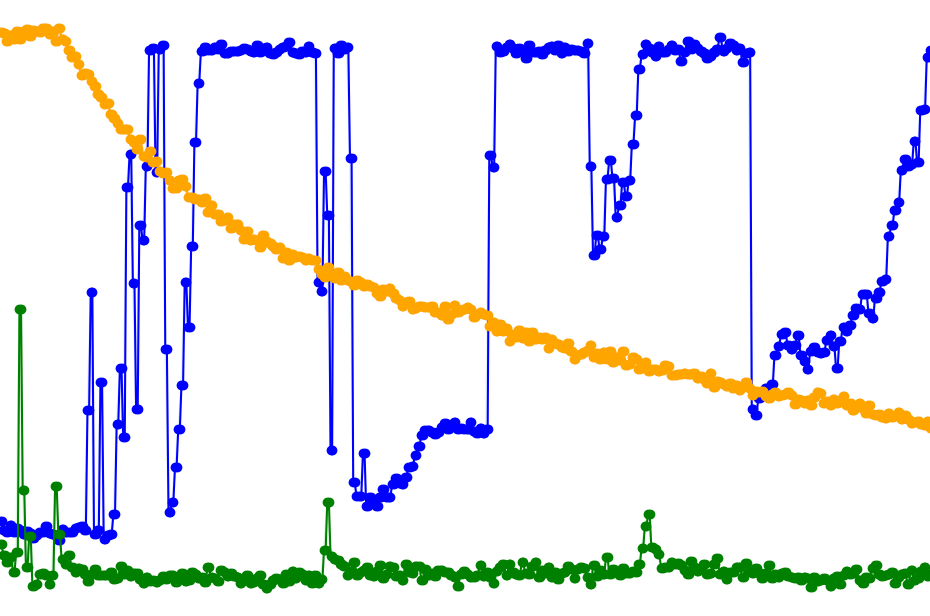CO2 Problem: (77, 0, 194, 616), (466, 0, 505, 616), (311, 0, 349, 616)
Condensation (CO2): (505, 0, 738, 616), (194, 0, 311, 616), (311, 0, 349, 616)
High CO2: (816, 0, 930, 616)
Normal: (505, 0, 738, 616), (0, 0, 194, 616), (738, 0, 930, 616), (349, 0, 505, 616), (194, 0, 311, 616), (311, 0, 349, 616)
